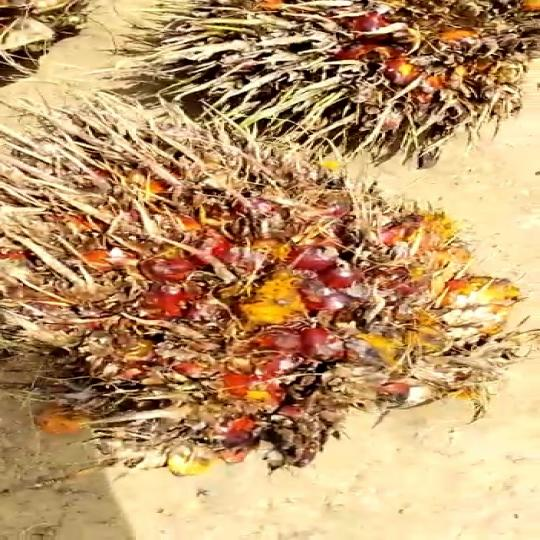terlalu masak: (0, 95, 540, 489)
